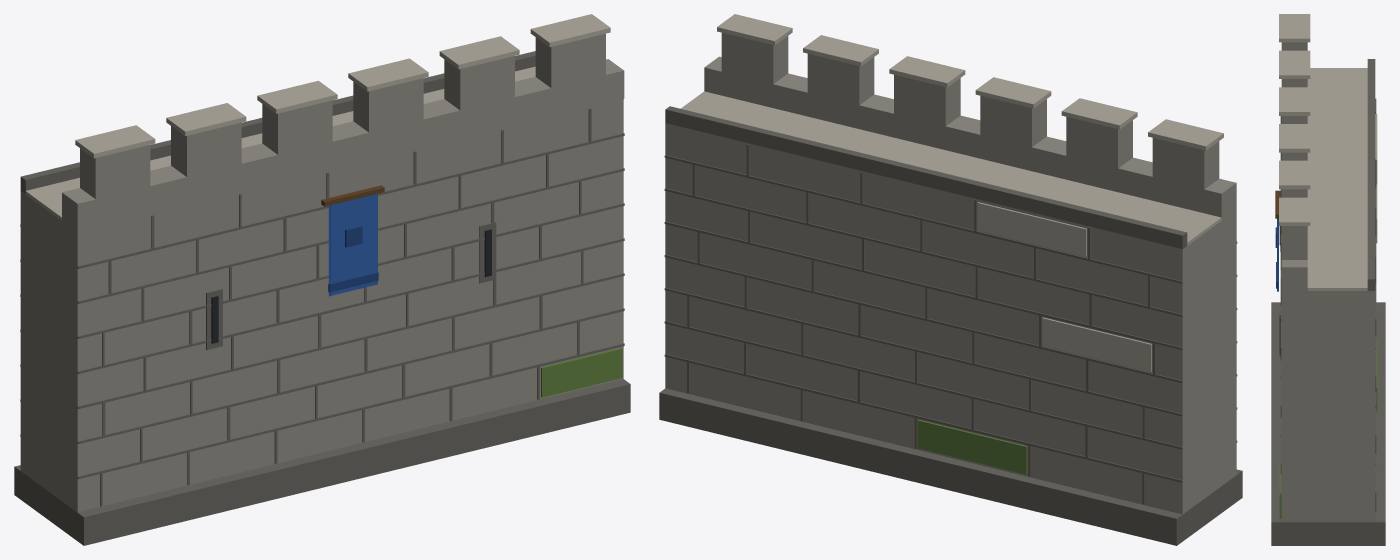
Rendered from stone-wall-segment.glb.
The picture shows the model from 3 angles, left to right: view 1: azimuth 30°, elevation 25°; view 2: azimuth 150°, elevation 25°; view 3: azimuth 270°, elevation 25°; orthographic projection. The views are drawn at different scales.
Visible parts, largest first — view 1: stone-wall-segment; view 2: stone-wall-segment; view 3: stone-wall-segment.
Boxes of the visible parts, x1,y1,x2,y2 form: stone-wall-segment: (14,14,630,545); stone-wall-segment: (659,14,1242,545); stone-wall-segment: (1271,14,1385,545).
Size of the model in its own units: 10 by 6.73 by 2.2.
1 material, 1 textured.
